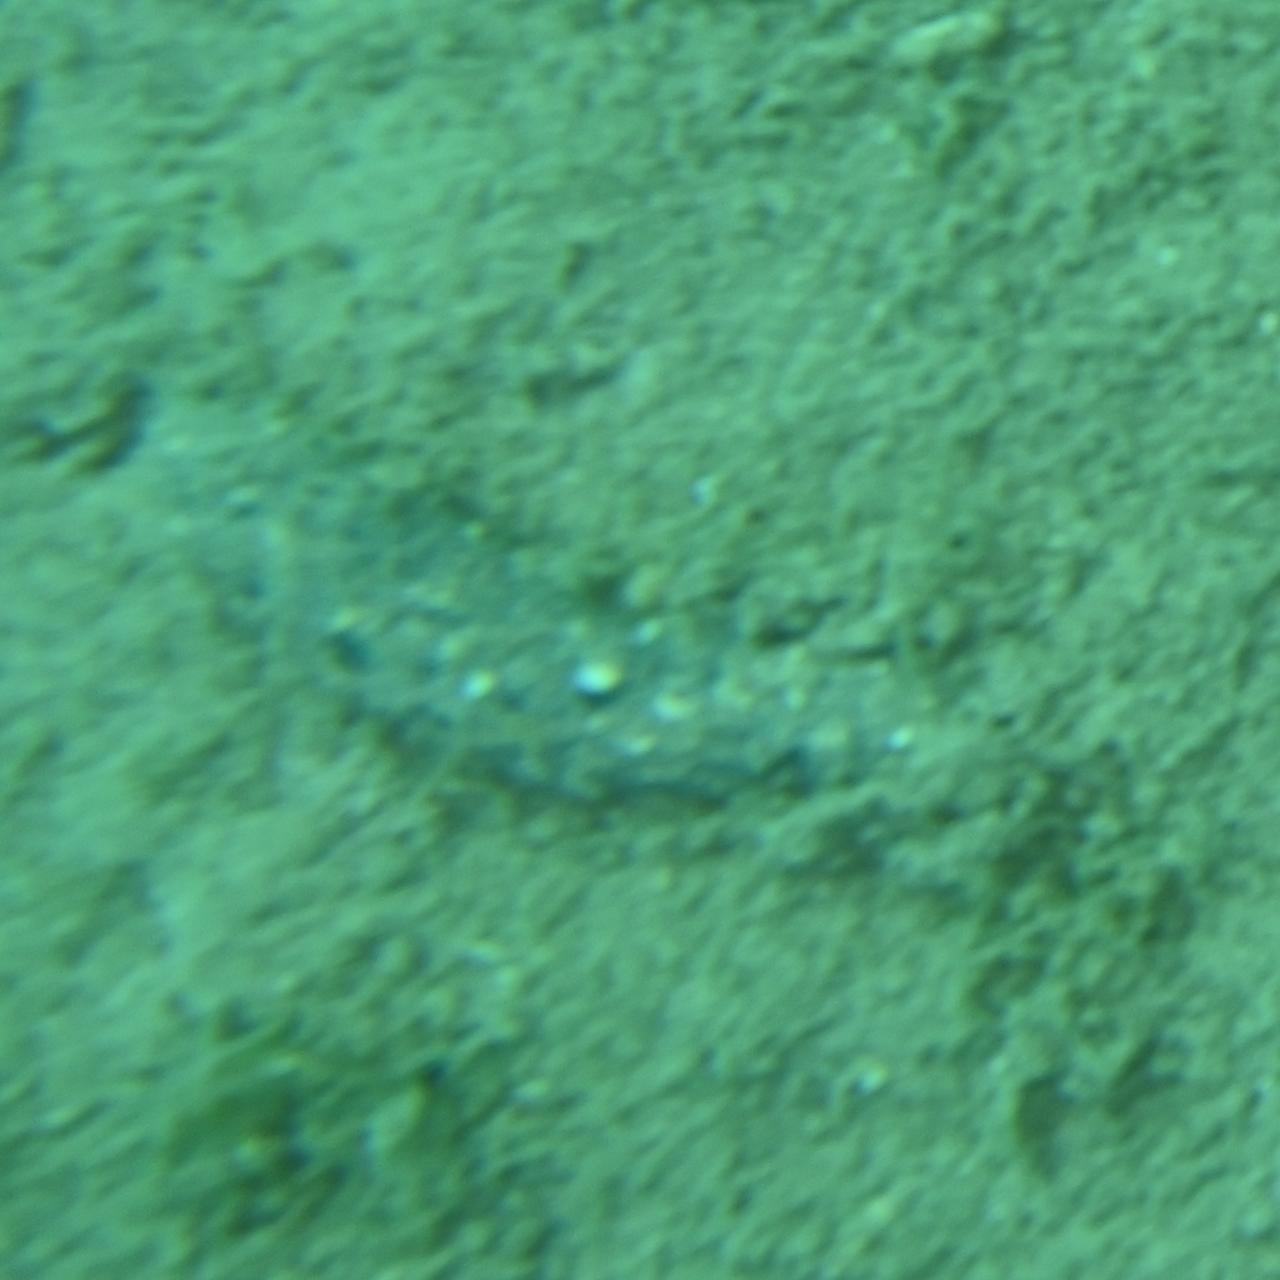Holothuria tubulosa: (284, 468, 996, 812)
